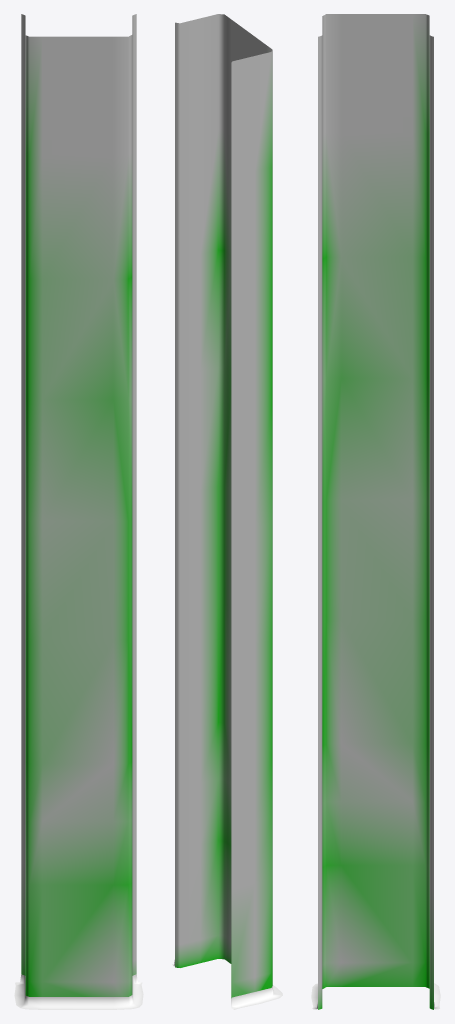
Rendered from SM_Wall_Pillar_02a.fbx.
The picture shows the model from 3 angles, left to right: view 1: azimuth 90°, elevation 25°; view 2: azimuth 210°, elevation 25°; view 3: azimuth 270°, elevation 25°; orthographic projection. The views are drawn at different scales.
Parts seen in each view (by area): view 1: SM_Wall_Pillar_02a; view 2: SM_Wall_Pillar_02a; view 3: SM_Wall_Pillar_02a.
Boxes of the visible parts, left/top/right/bottom form: SM_Wall_Pillar_02a: left=14, top=14, right=143, bottom=1009; SM_Wall_Pillar_02a: left=172, top=14, right=282, bottom=1009; SM_Wall_Pillar_02a: left=311, top=14, right=440, bottom=1009.
Bounding box in the file's own units: 24.52 × 48.28 × 400.
